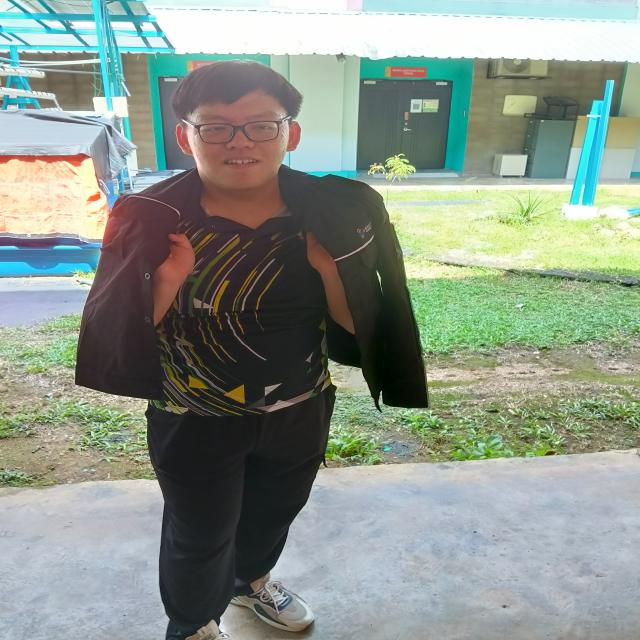person_without_labcoat: (76, 60, 428, 640)
